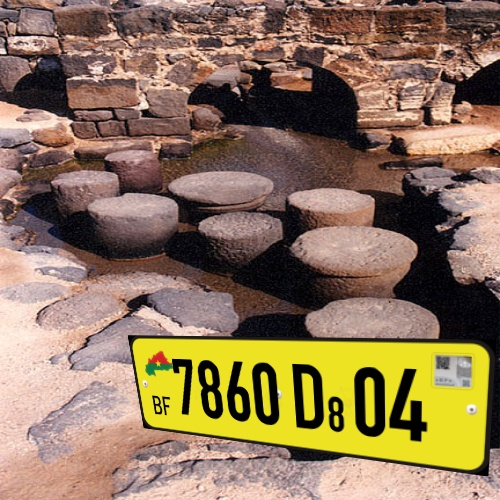plate: (107, 325, 500, 486)
